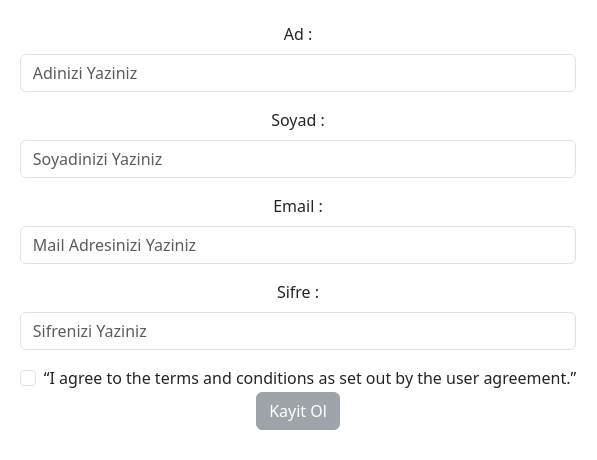
it: Tests for Login Page › Error Messages › Surname input not pass to test for less than 3 chars
In the field with test id "surname-input": (299, 159) [20, 140, 577, 178], type "a"
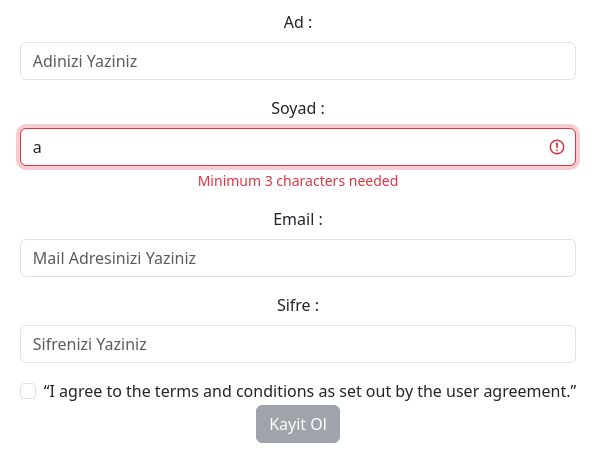
Check: the text "Minimum 3 characters needed" is shown, box [198, 170, 398, 190]
